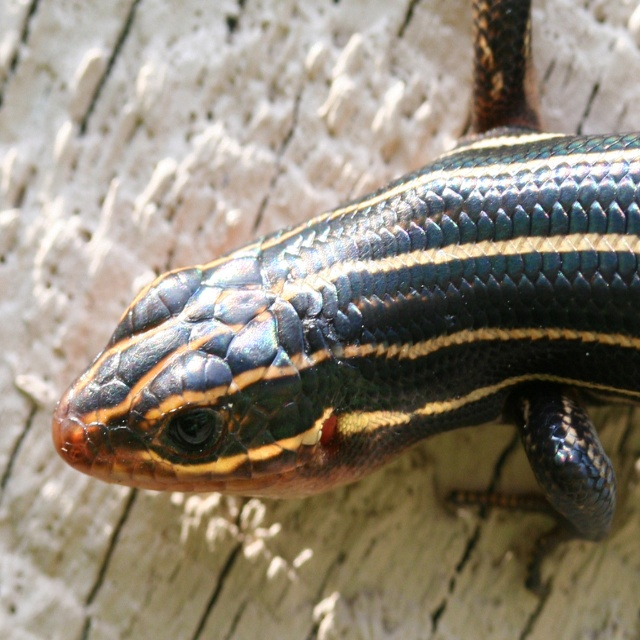Lizard: (51, 0, 640, 597)
